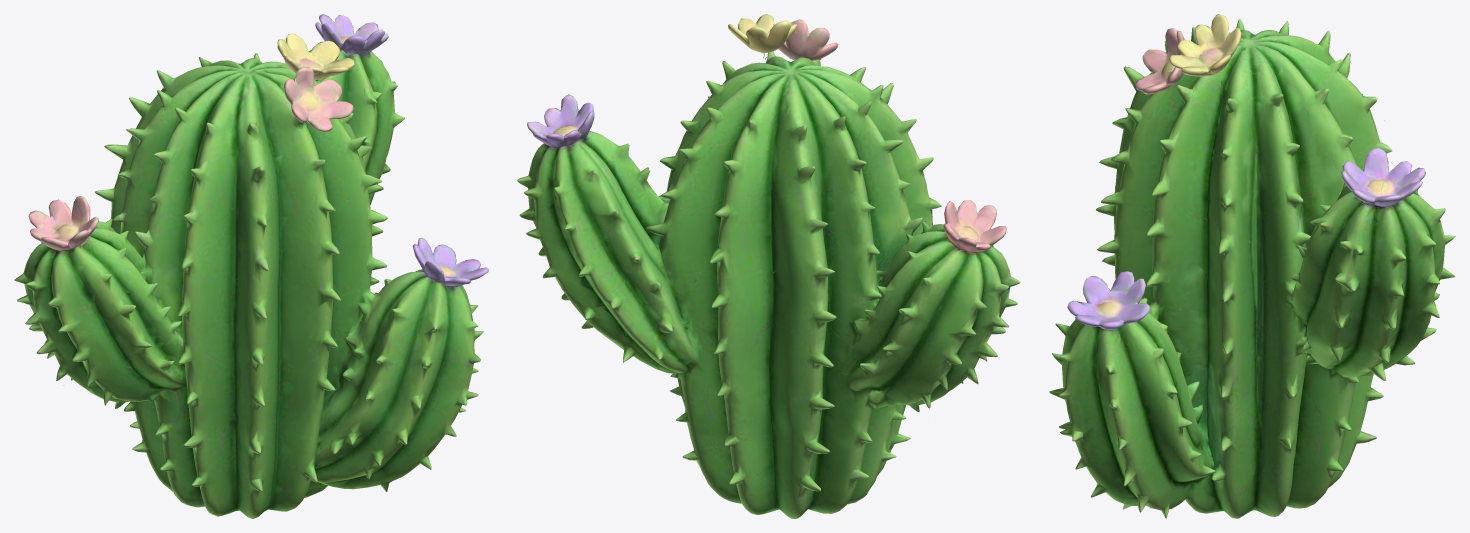
3 views of the same model, side by side, from view 1: azimuth 30°, elevation 25°; view 2: azimuth 150°, elevation 25°; view 3: azimuth 270°, elevation 25° (orthographic). The views are drawn at different scales.
Size of the model in its own units: 1.83 by 1.9 by 1.43.
Materials: 1 (1 with a texture image).
